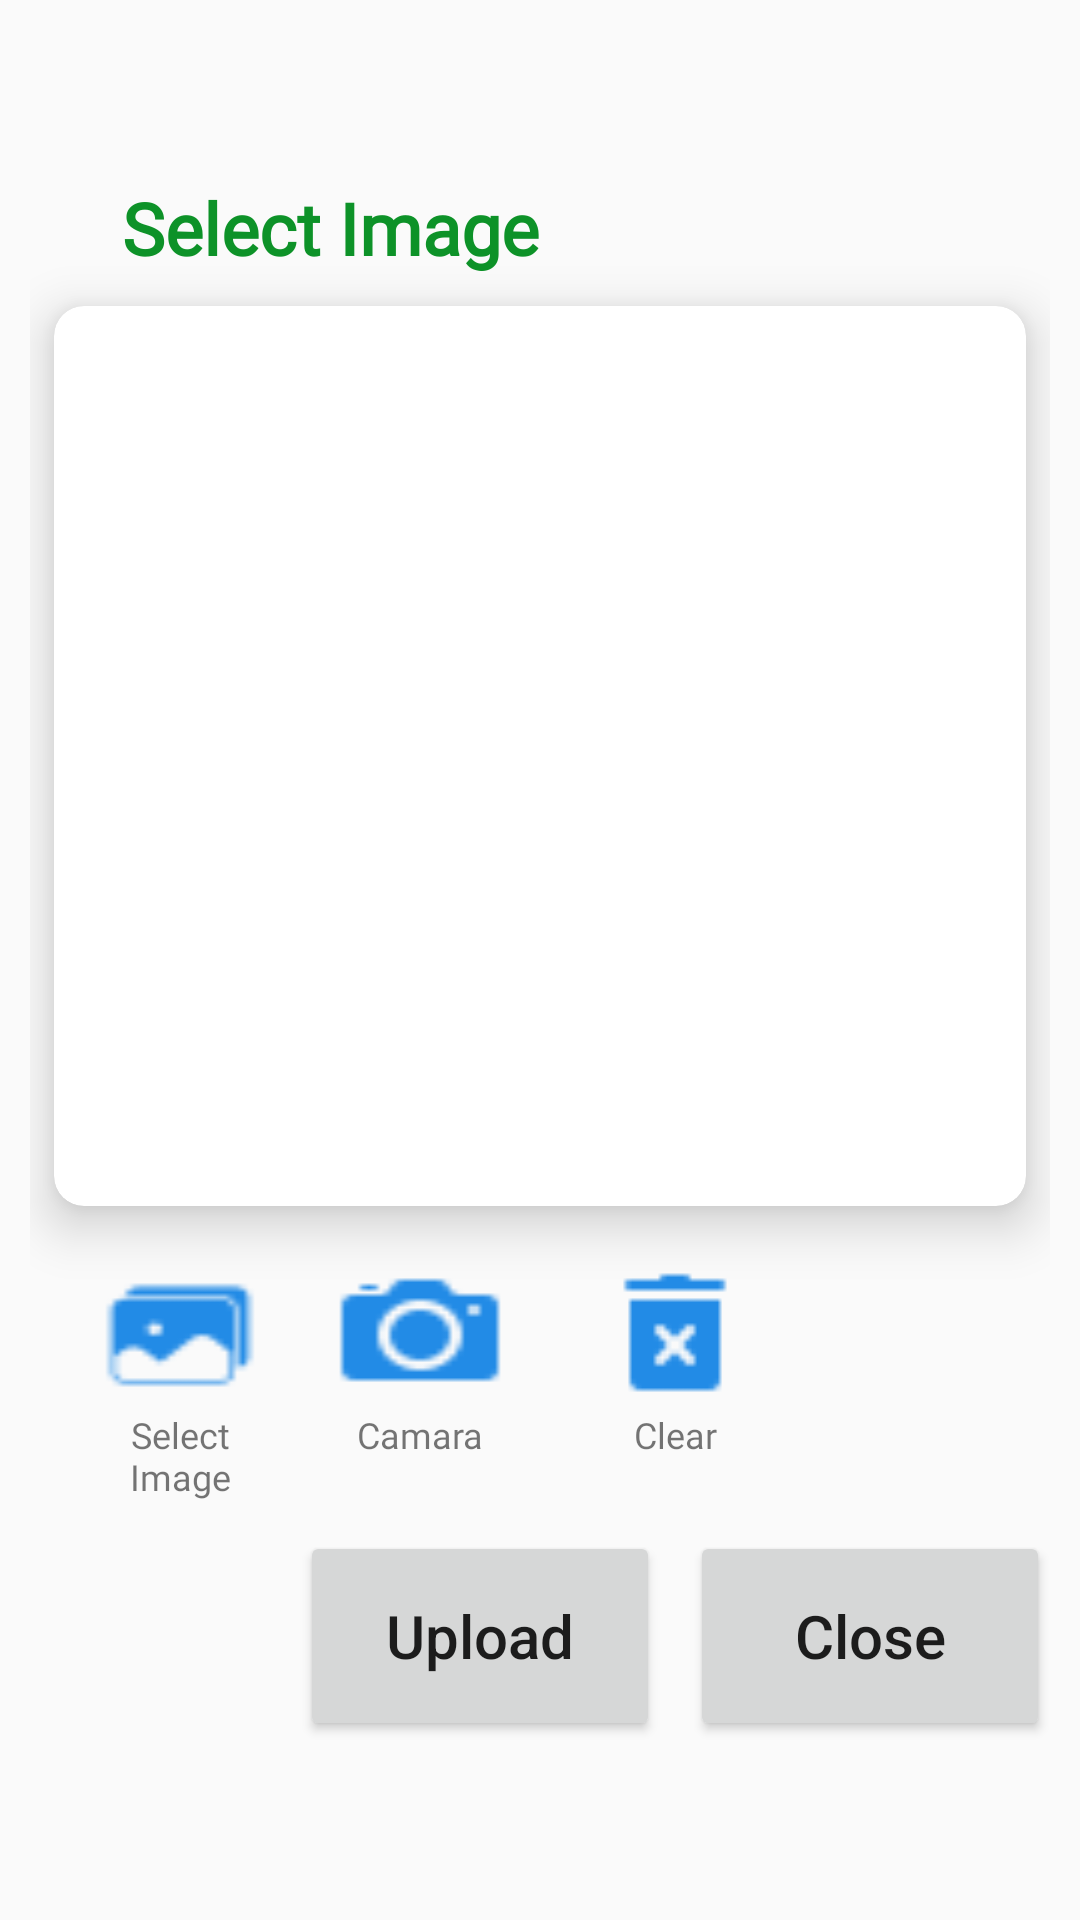

Icon bounding boxes for this 1080px x 1920px phone screenshot, format (x1, y1, x2, y2):
gallery: (107, 1283, 253, 1387)
remove: (623, 1273, 727, 1392)
